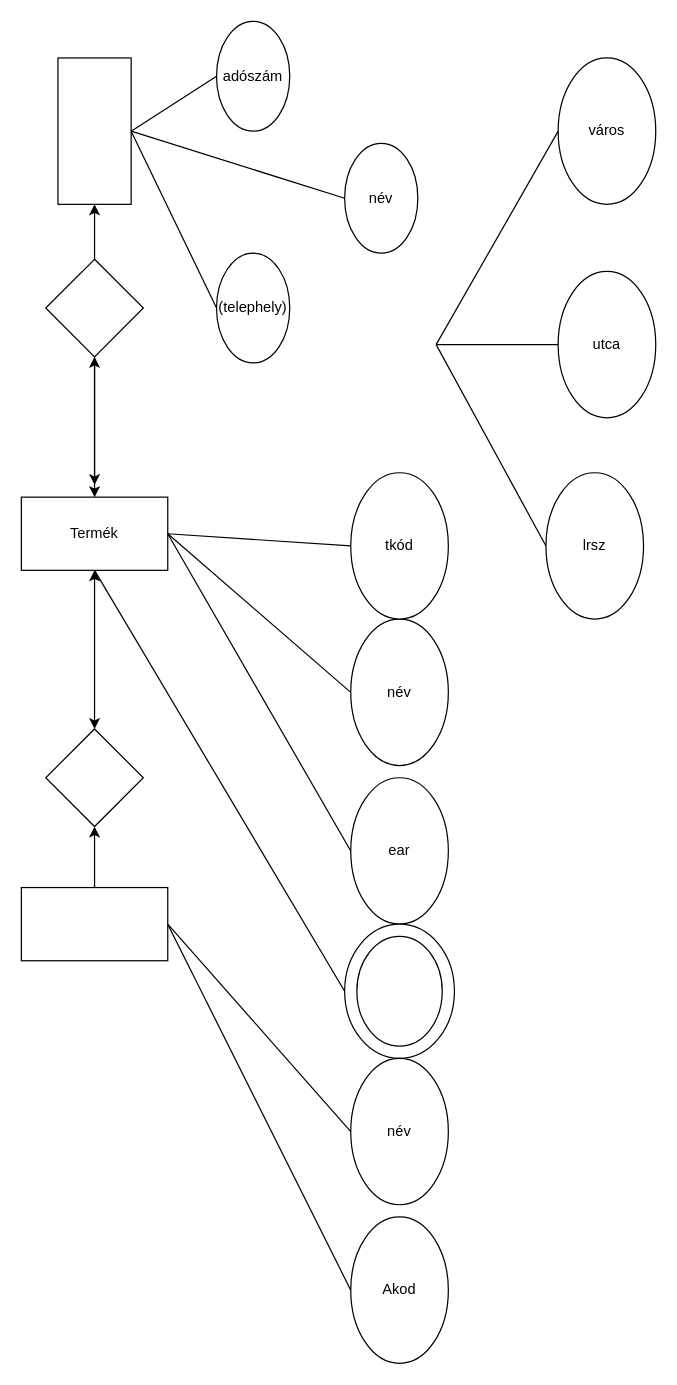
Image size: 677x1385. Some labels were removed from this diagram. Here are the shapes that lost their labels. From the top down, the centre of each, then its label:
At point 94,130: "Gyártó".
At point 94,307: "T-GY".
At point 94,777: "T-A".
At point 94,923: "Alkatrész".
At point 399,990: "egységdb".
